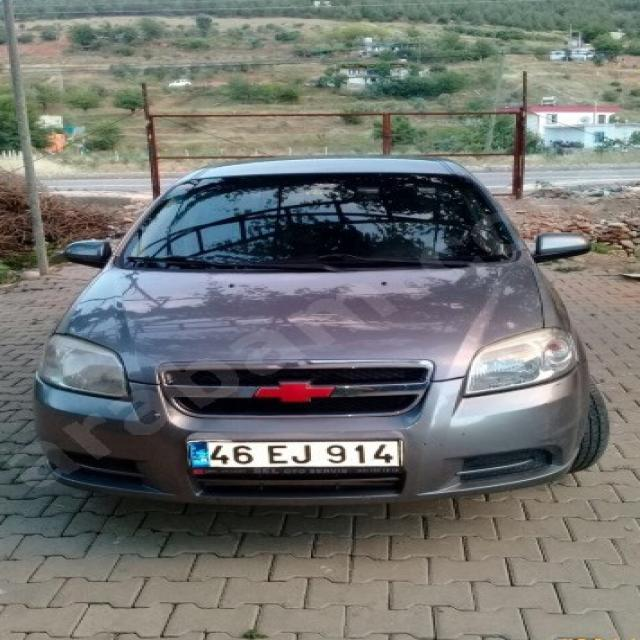license_plate: (188, 440, 402, 469)
